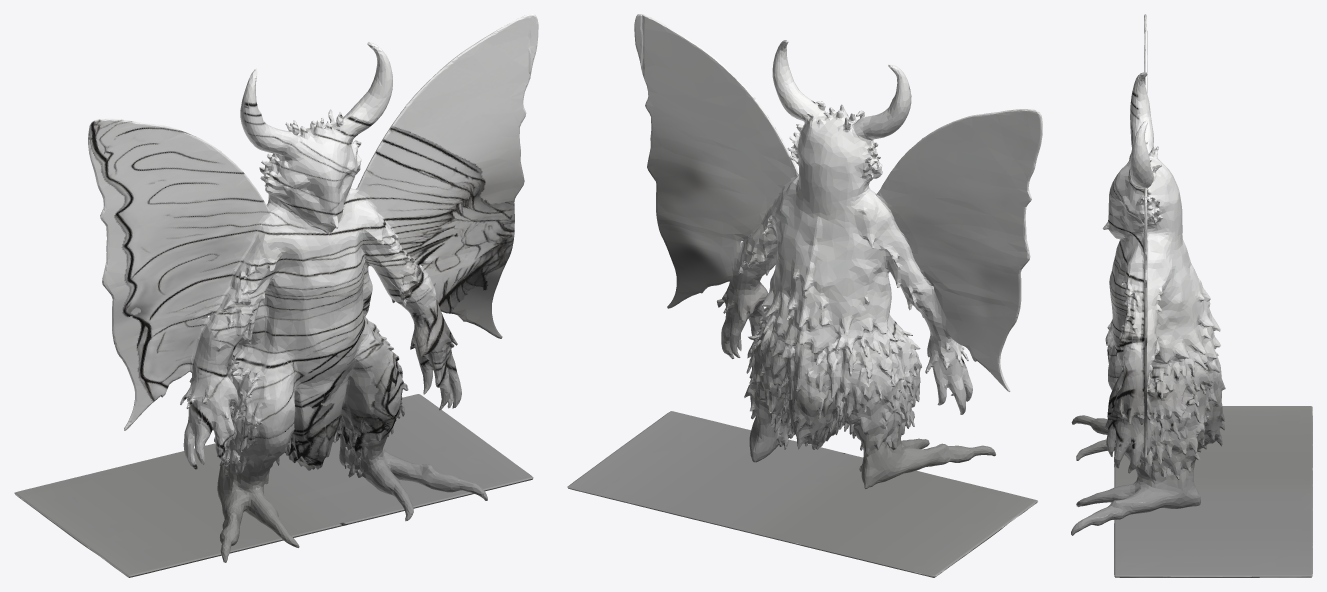
Rendered from fluorescent_moth_local.glb.
The picture shows the model from 3 angles, left to right: view 1: azimuth 30°, elevation 25°; view 2: azimuth 150°, elevation 25°; view 3: azimuth 270°, elevation 25°; orthographic projection. The views are drawn at different scales.
Visible parts, largest first — view 1: geometry_0; view 2: geometry_0; view 3: geometry_0.
Part boxes in pixels (x1,y1,x2,y2): geometry_0: (14,14,538,577); geometry_0: (567,14,1042,577); geometry_0: (1071,14,1312,577).
Bounding box in the file's own units: 1.74 × 1.7 × 0.9399.
Materials: 1 (1 with a texture image).
